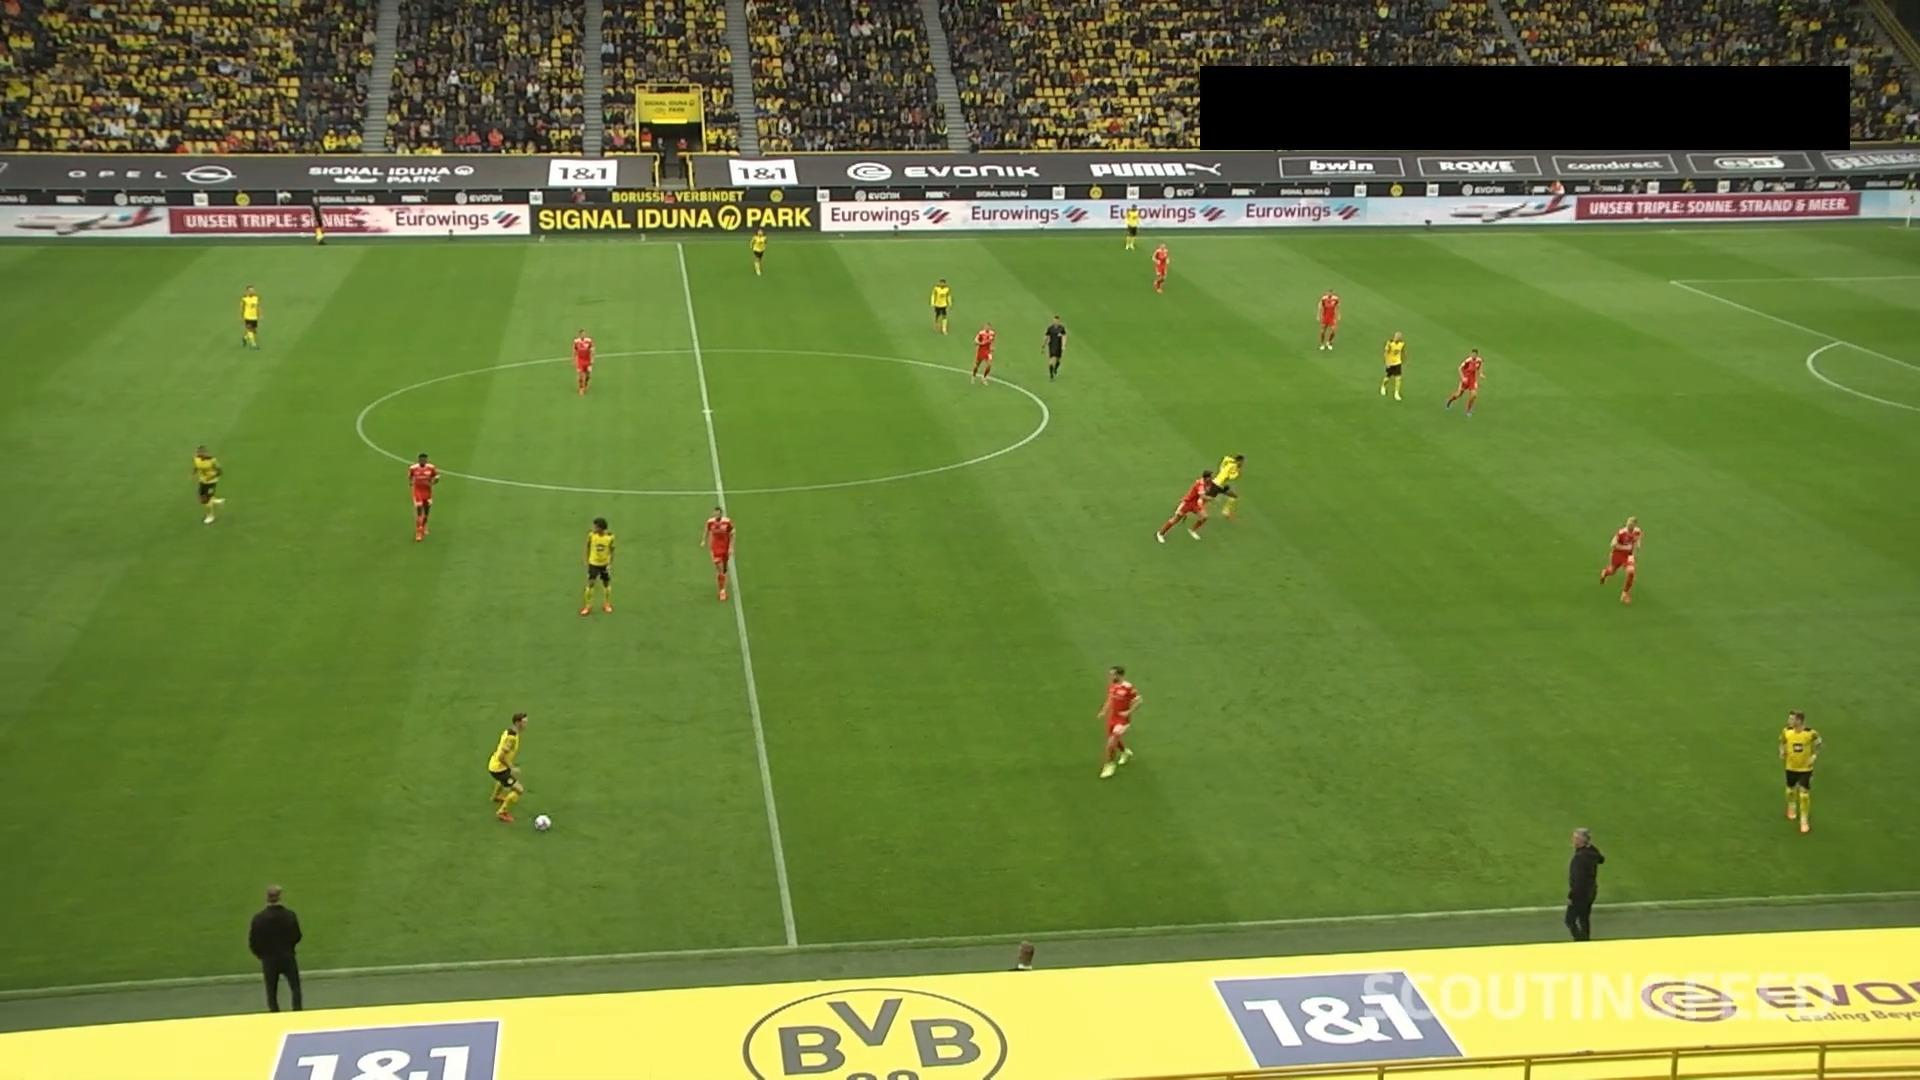ball: (533, 812, 554, 833)
